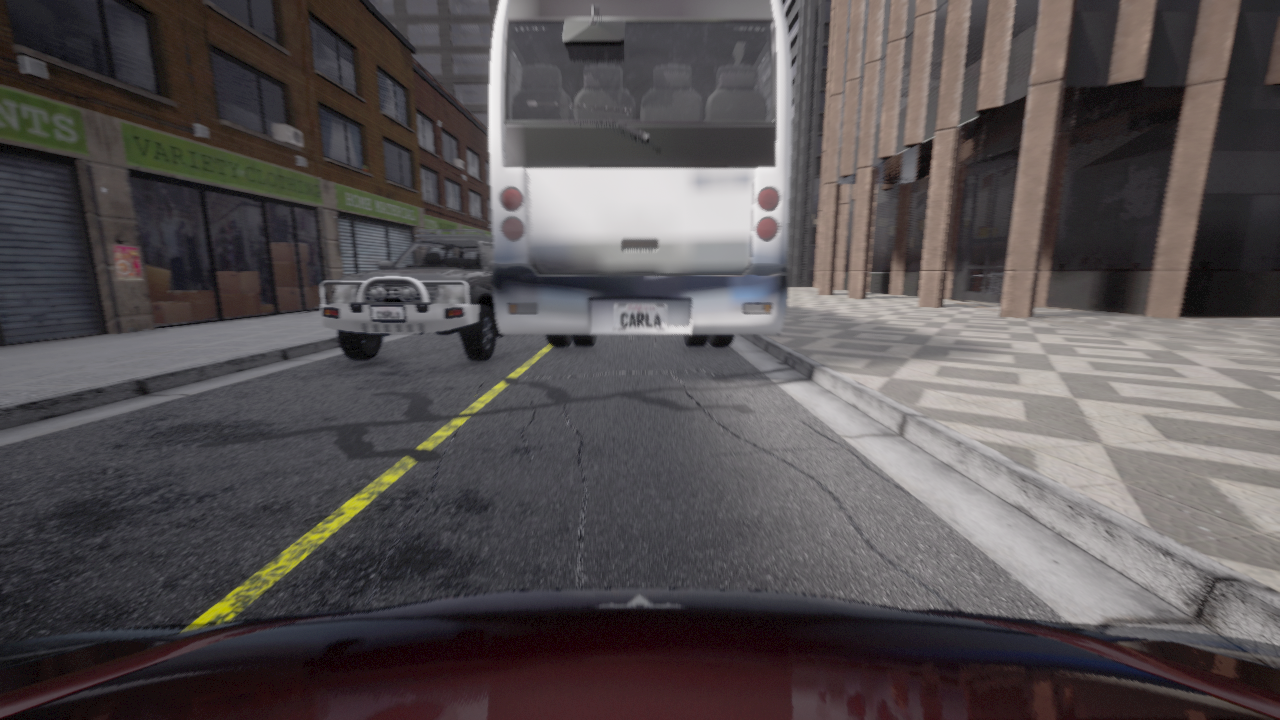cyclist: (0, 588, 1279, 719), (489, 0, 790, 346), (320, 230, 504, 360)
